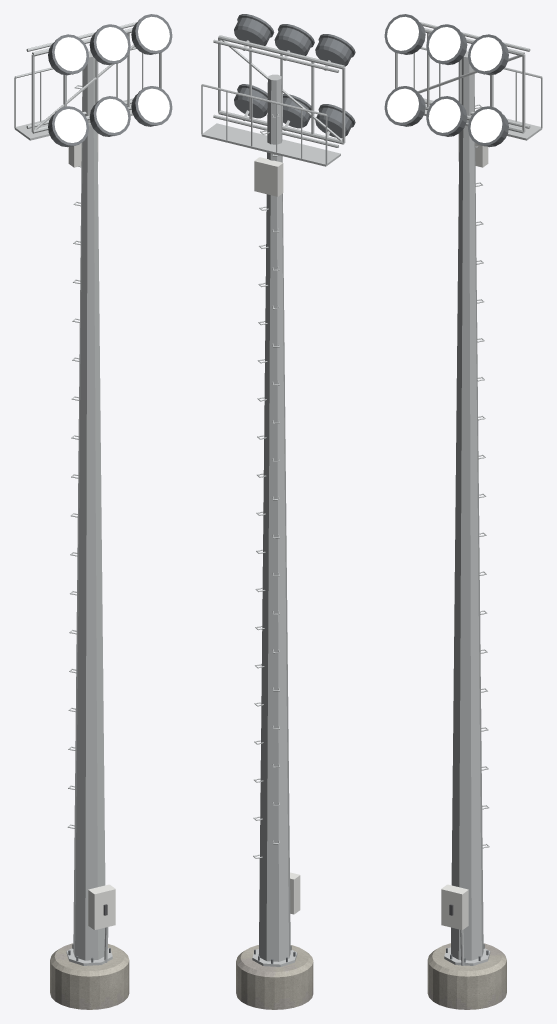
Rendered from light_tower.glb.
3 renders of one model, left to right at view 1: azimuth 30°, elevation 25°; view 2: azimuth 150°, elevation 25°; view 3: azimuth 330°, elevation 25°, orthographic. The views are drawn at different scales.
Visible parts, largest first — view 1: light_tower_galv, light_tower_lamp_glass, light_tower_concrete, light_tower_steel_d, light_tower_paint_w; view 2: light_tower_galv, light_tower_steel_d, light_tower_concrete, light_tower_paint_w; view 3: light_tower_galv, light_tower_lamp_glass, light_tower_concrete, light_tower_steel_d, light_tower_paint_w.
Boxes of the visible parts, <box> form: light_tower_galv: <box>14,22,161,965</box>; light_tower_lamp_glass: <box>54,16,169,142</box>; light_tower_concrete: <box>50,943,129,1009</box>; light_tower_steel_d: <box>48,14,172,962</box>; light_tower_paint_w: <box>68,133,115,929</box>; light_tower_galv: <box>201,35,345,966</box>; light_tower_steel_d: <box>234,14,355,963</box>; light_tower_concrete: <box>236,945,313,1009</box>; light_tower_paint_w: <box>254,157,300,914</box>; light_tower_galv: <box>395,22,542,965</box>; light_tower_lamp_glass: <box>387,16,502,142</box>; light_tower_concrete: <box>427,943,506,1009</box>; light_tower_steel_d: <box>384,14,508,962</box>; light_tower_paint_w: <box>441,133,488,929</box>.
Size of the model in its own units: 2.66 by 19.11 by 1.7.
Materials: 6 (1 with a texture image).
